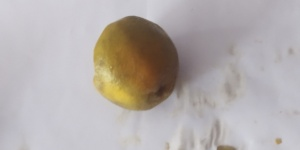BAD: (89, 12, 177, 114)
